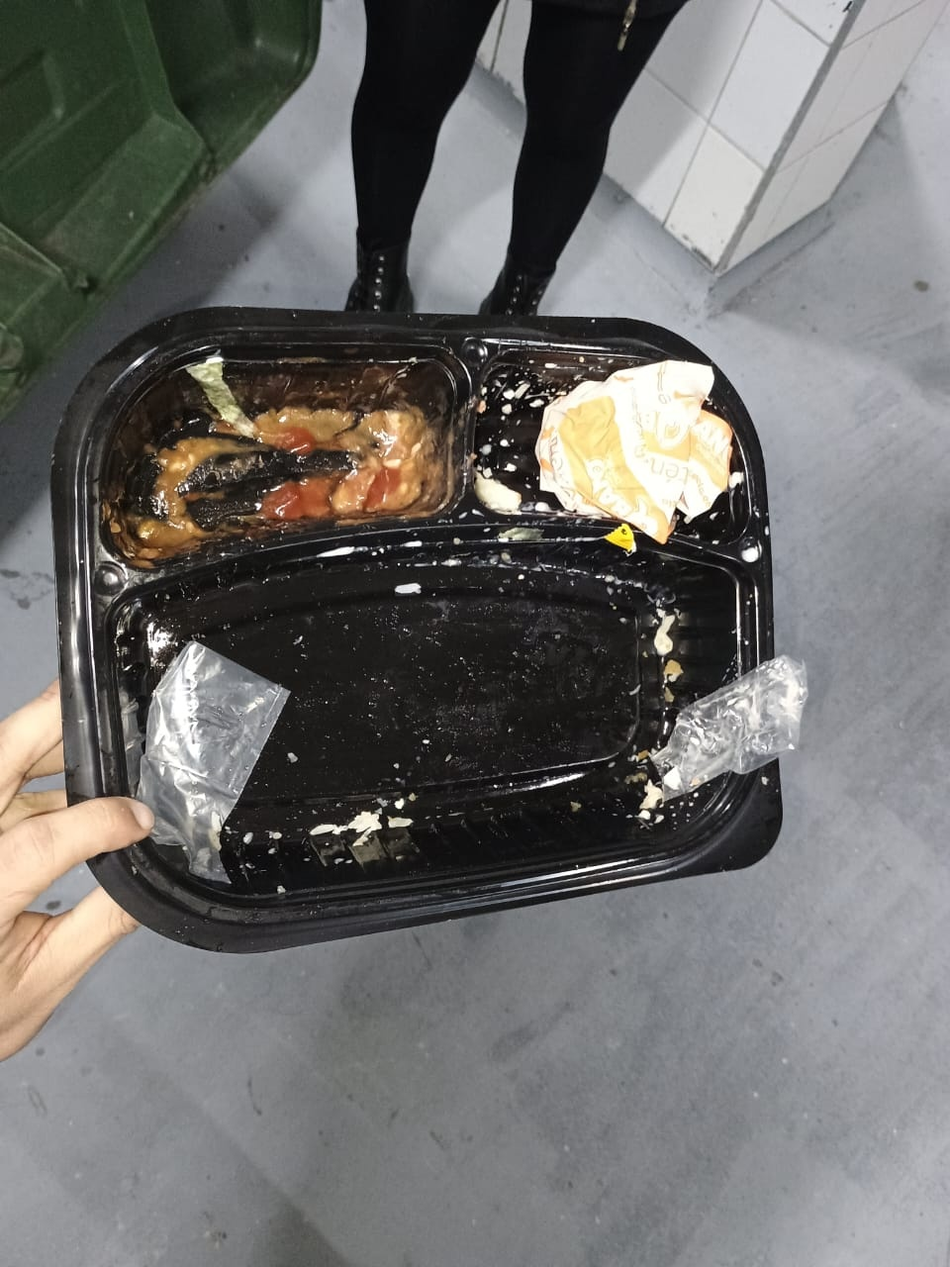Ordinario: (46, 307, 813, 954)
